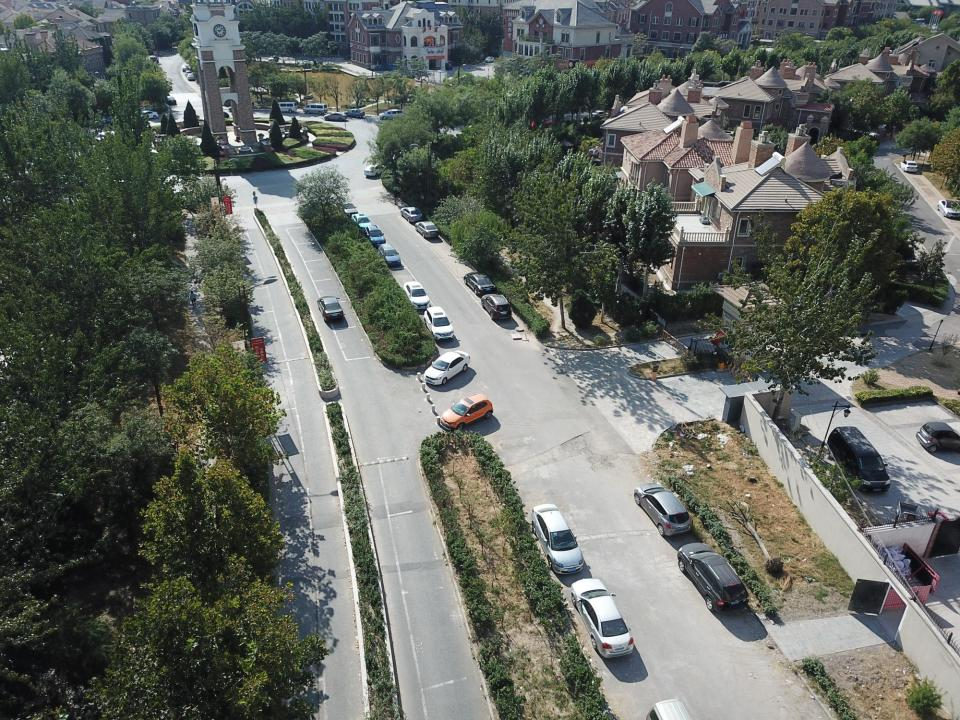car: (570, 578, 634, 658), (677, 542, 749, 613), (826, 426, 891, 493), (530, 503, 584, 575), (634, 483, 694, 537), (439, 393, 494, 432), (423, 349, 471, 386), (916, 421, 960, 452), (423, 306, 455, 342), (480, 292, 512, 320), (463, 271, 496, 296), (403, 281, 430, 310), (317, 295, 344, 322), (378, 243, 401, 266), (936, 199, 960, 218), (365, 224, 386, 245), (415, 220, 439, 238), (400, 206, 424, 224), (351, 213, 371, 232), (338, 200, 358, 218), (364, 163, 387, 177), (97, 115, 120, 128), (899, 159, 918, 173), (324, 112, 347, 122), (136, 109, 159, 119), (344, 108, 365, 118), (163, 94, 177, 106), (186, 72, 195, 80), (182, 66, 190, 72), (184, 70, 191, 76)
van: (303, 102, 328, 115), (378, 108, 404, 120), (274, 101, 298, 113)
